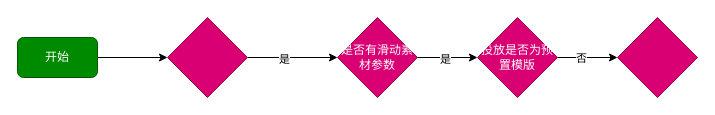
This 715x115 diagram has some shape labels left out. The box of each missing label's shape, as (x1, y1, x2, y2) in pixels:
是否已经有本地缓存的素材: (616, 16, 698, 98)
是否获取到广告投放: (166, 16, 248, 98)
